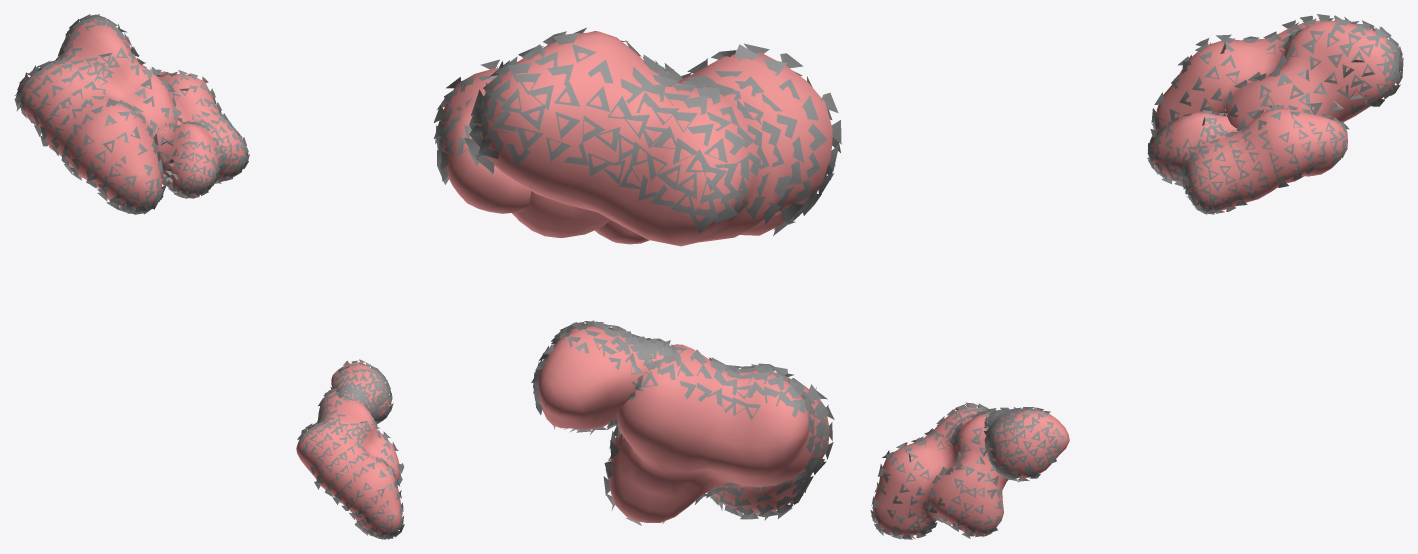
Rendered from SM_ENV_LKNVLD_TreeSet_R.gltf.
3 views of the same model, side by side, from view 1: azimuth 30°, elevation 25°; view 2: azimuth 150°, elevation 25°; view 3: azimuth 270°, elevation 25° (orthographic). The views are drawn at different scales.
Visible parts, largest first — view 1: SM_ENV_LKNVLD_TreeSet_R; view 2: SM_ENV_LKNVLD_TreeSet_R; view 3: SM_ENV_LKNVLD_TreeSet_R.
Boxes of the visible parts, x1,y1,x2,y2 form: SM_ENV_LKNVLD_TreeSet_R: (14, 14, 404, 539); SM_ENV_LKNVLD_TreeSet_R: (433, 27, 841, 525); SM_ENV_LKNVLD_TreeSet_R: (870, 14, 1403, 539).
Size of the model in its own units: 22.65 by 36.82 by 38.29.
